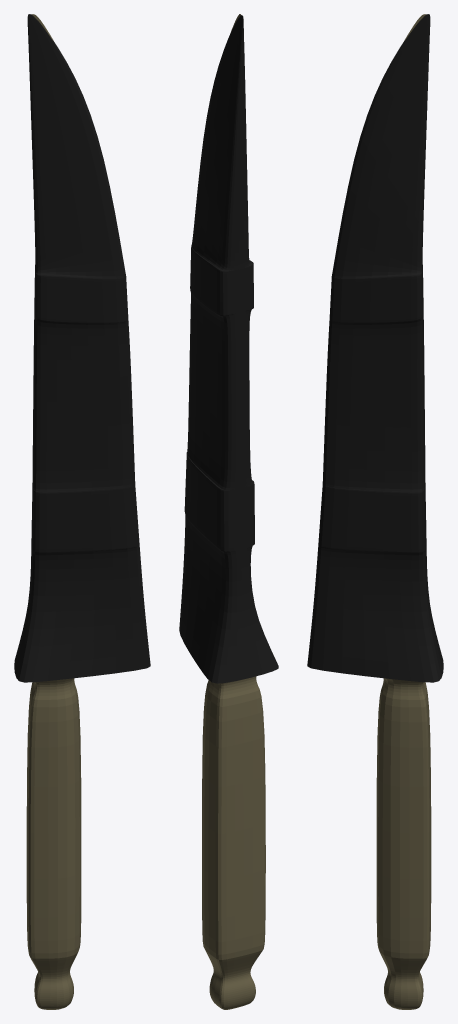
Rendered from Knife.fbx.
3 views of the same model, side by side, from view 1: azimuth 90°, elevation 25°; view 2: azimuth 210°, elevation 25°; view 3: azimuth 270°, elevation 25° (orthographic).
Parts seen in each view (by area): view 1: Cube.001, Cube; view 2: Cube.001, Cube; view 3: Cube.001, Cube.
Part boxes in pixels (x1=…): Cube.001: x1=14, y1=14, x2=150, y2=682; Cube: x1=26, y1=14, x2=81, y2=1009; Cube.001: x1=179, y1=15, x2=278, y2=683; Cube: x1=202, y1=14, x2=265, y2=1009; Cube.001: x1=307, y1=14, x2=443, y2=682; Cube: x1=376, y1=14, x2=431, y2=1009.
Size of the model in its own units: 4.2 by 60.03 by 7.48.
